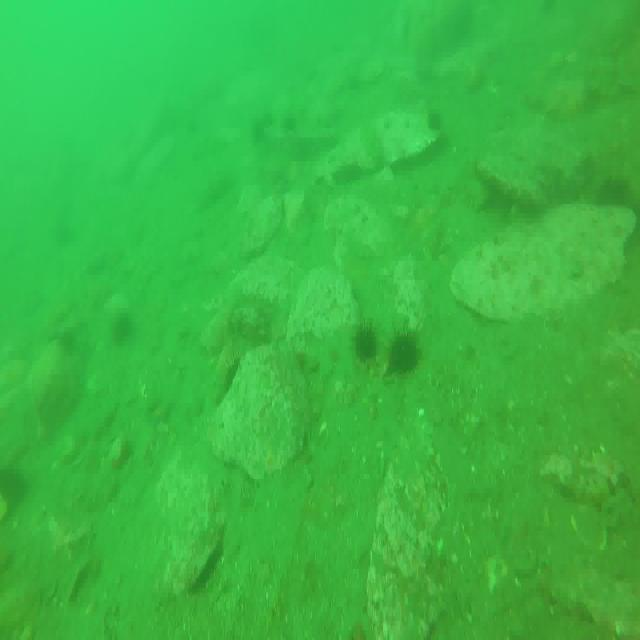echinus: (222, 353, 254, 411), (385, 331, 419, 376), (355, 320, 383, 370)
